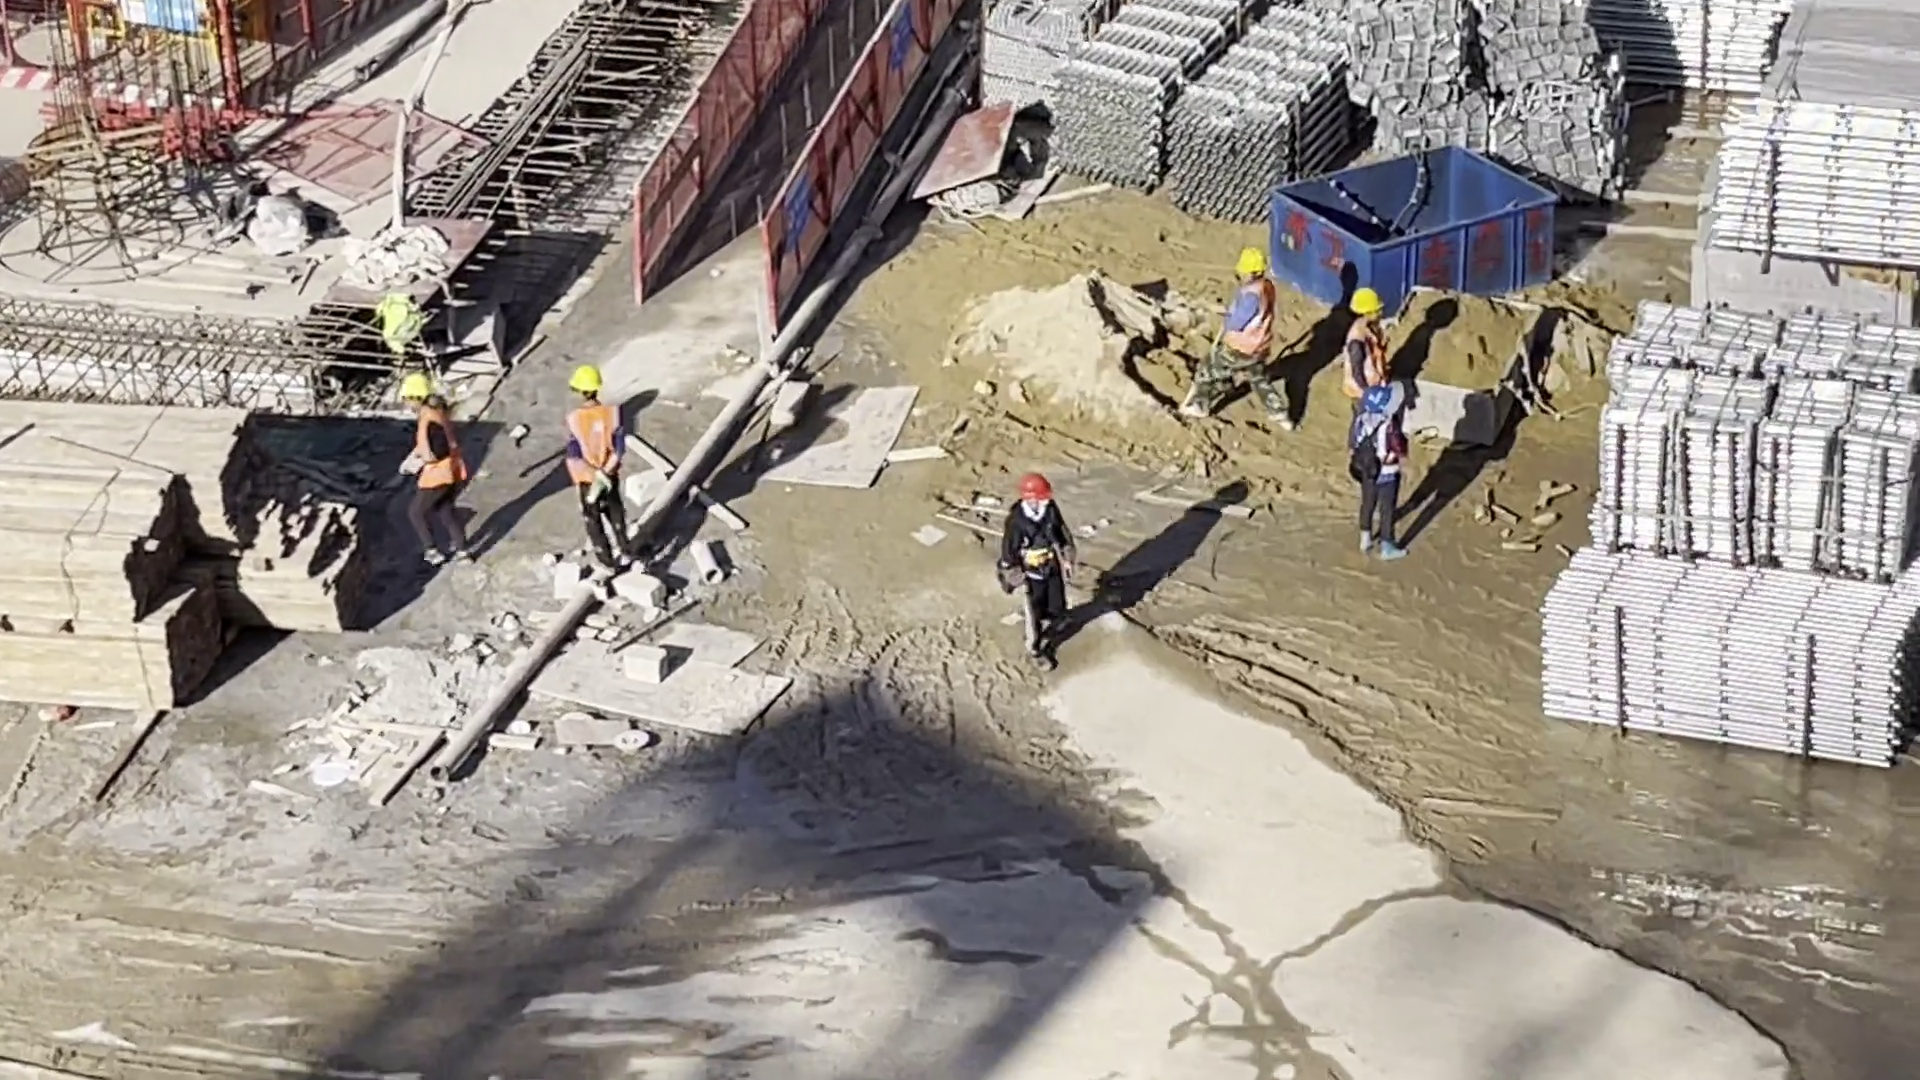fence: (638, 4, 973, 315)
helmet: (1021, 472, 1053, 501), (568, 365, 603, 392), (398, 375, 433, 400), (1350, 290, 1383, 315), (1237, 248, 1268, 273), (1362, 384, 1387, 408)
hopper: (1269, 143, 1559, 300), (1392, 281, 1543, 447)
person: (563, 370, 629, 573), (1004, 470, 1067, 672), (399, 375, 465, 566), (1211, 253, 1285, 423), (1358, 391, 1408, 561), (1342, 291, 1392, 418)
scaffold: (1535, 549, 1916, 768), (1601, 310, 1920, 566), (1055, 4, 1343, 215), (1715, 104, 1920, 263), (1588, 1, 1774, 97)
slogan: (783, 169, 811, 254), (885, 6, 912, 70)
vest: (413, 410, 461, 491), (569, 406, 617, 481), (1342, 319, 1386, 393), (1232, 284, 1273, 353), (1354, 419, 1393, 469)
wood: (1, 466, 229, 715), (1, 404, 261, 546)
